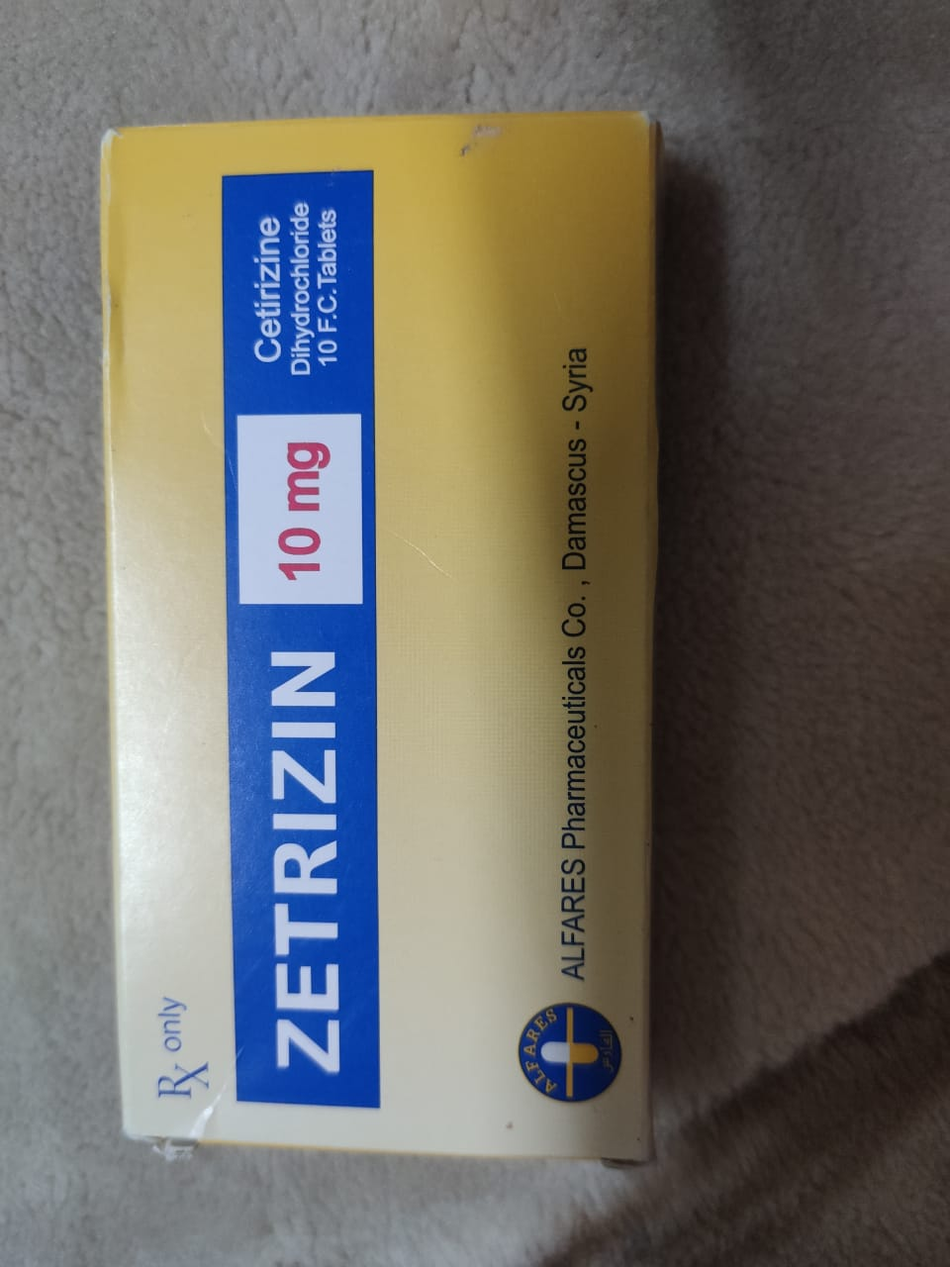Medicine: (86, 109, 680, 1194)
